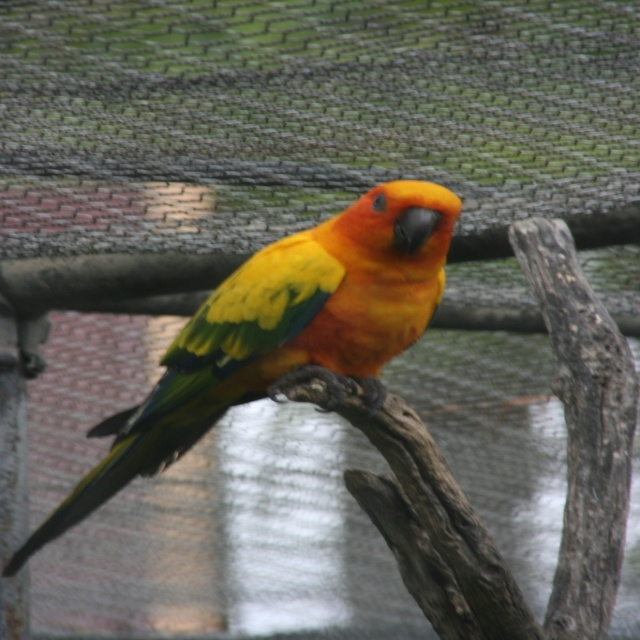Parrot: (1, 179, 463, 578)
